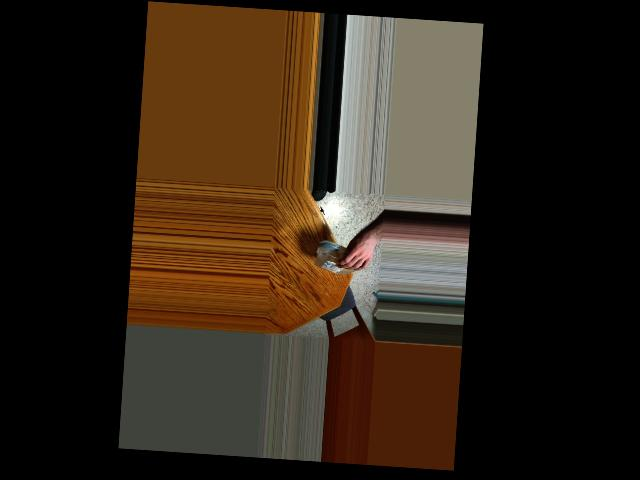cheese: (327, 239, 367, 275)
